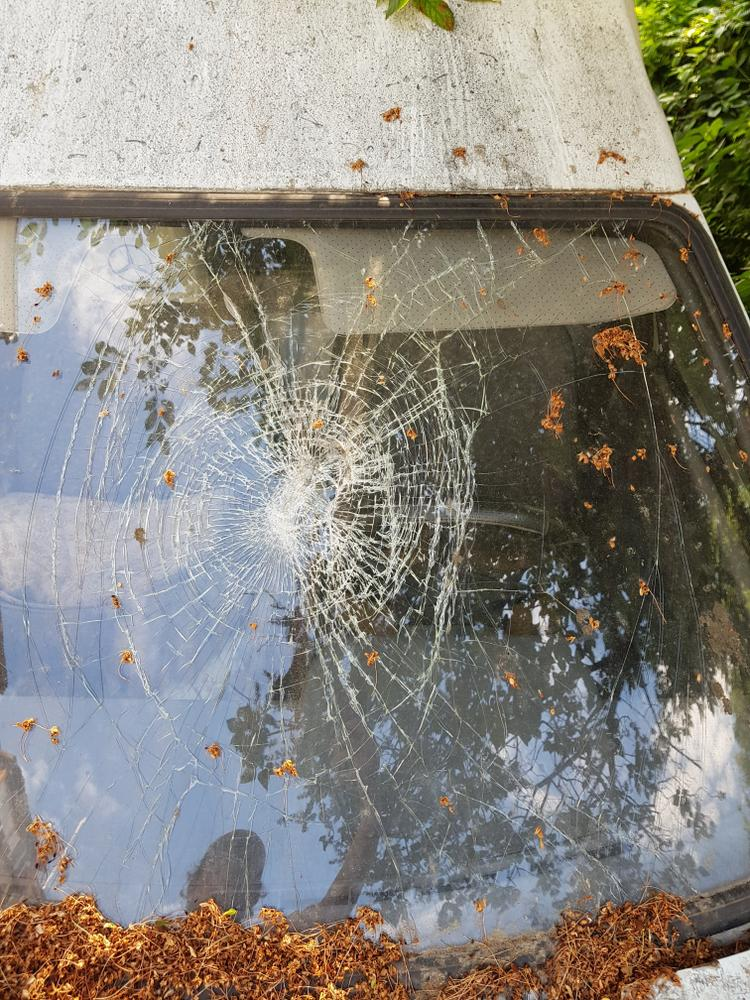glass shatter: (0, 216, 750, 936)
